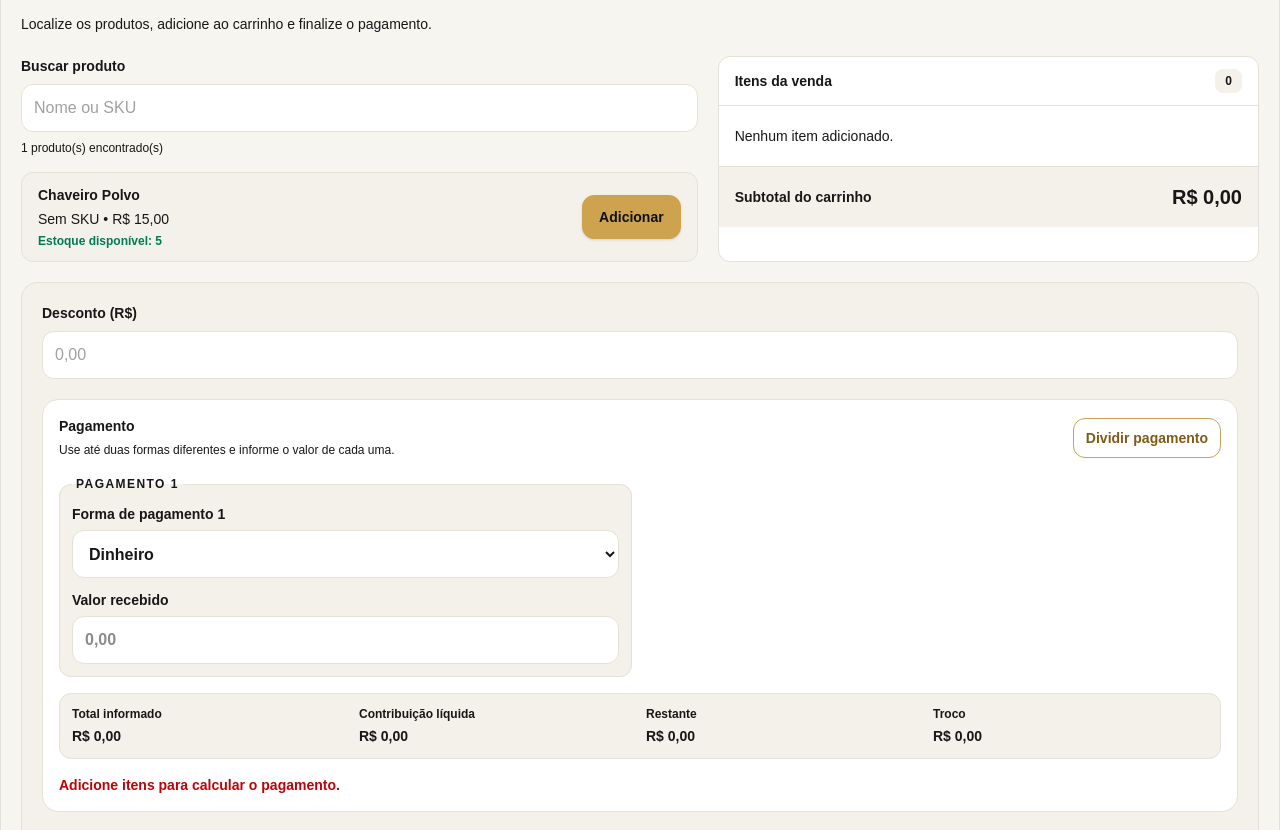
PdvCart › calculates cash change when received amount covers the total
Click the button "Adicionar" at point(631, 217), box [582, 195, 681, 239]
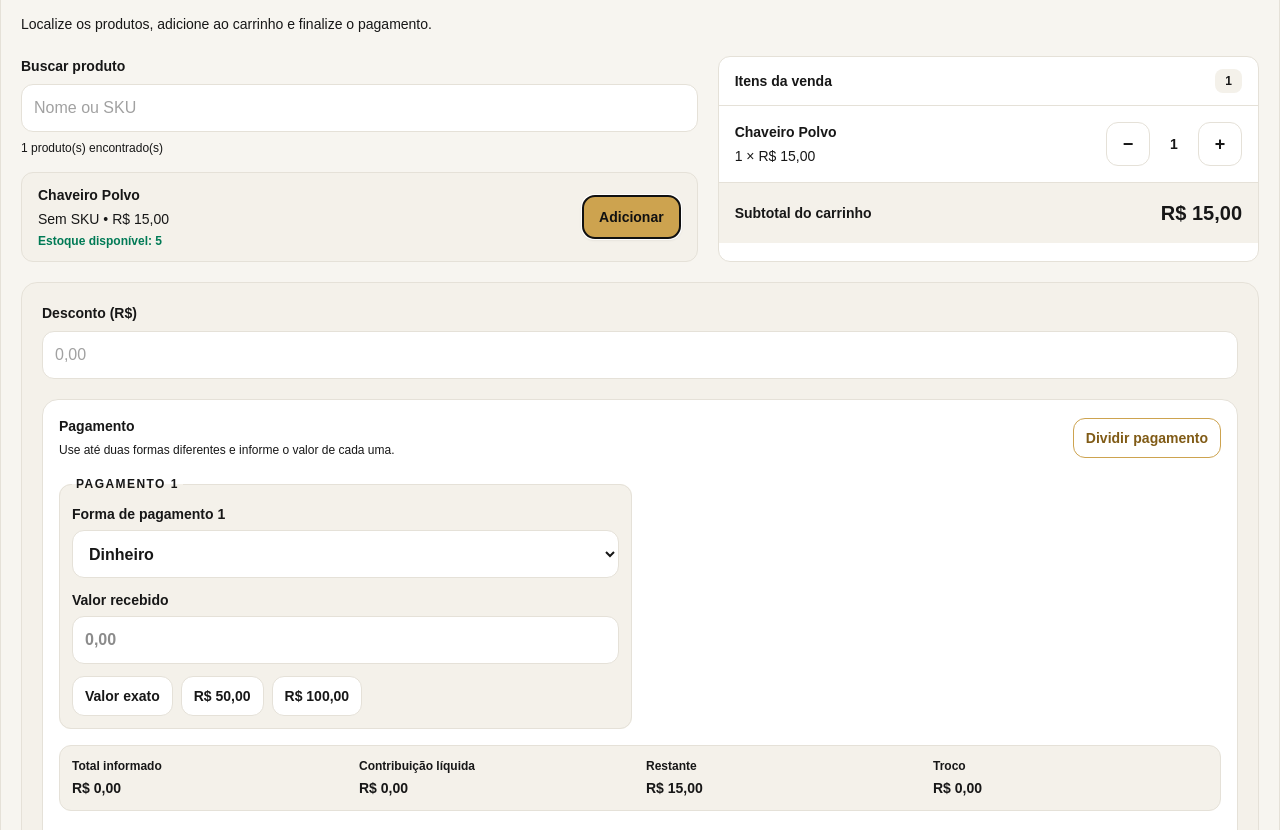
Type "20,00" into the field labelled "Valor recebido" at point(346, 640), box [72, 616, 619, 664]
(page scrolled)
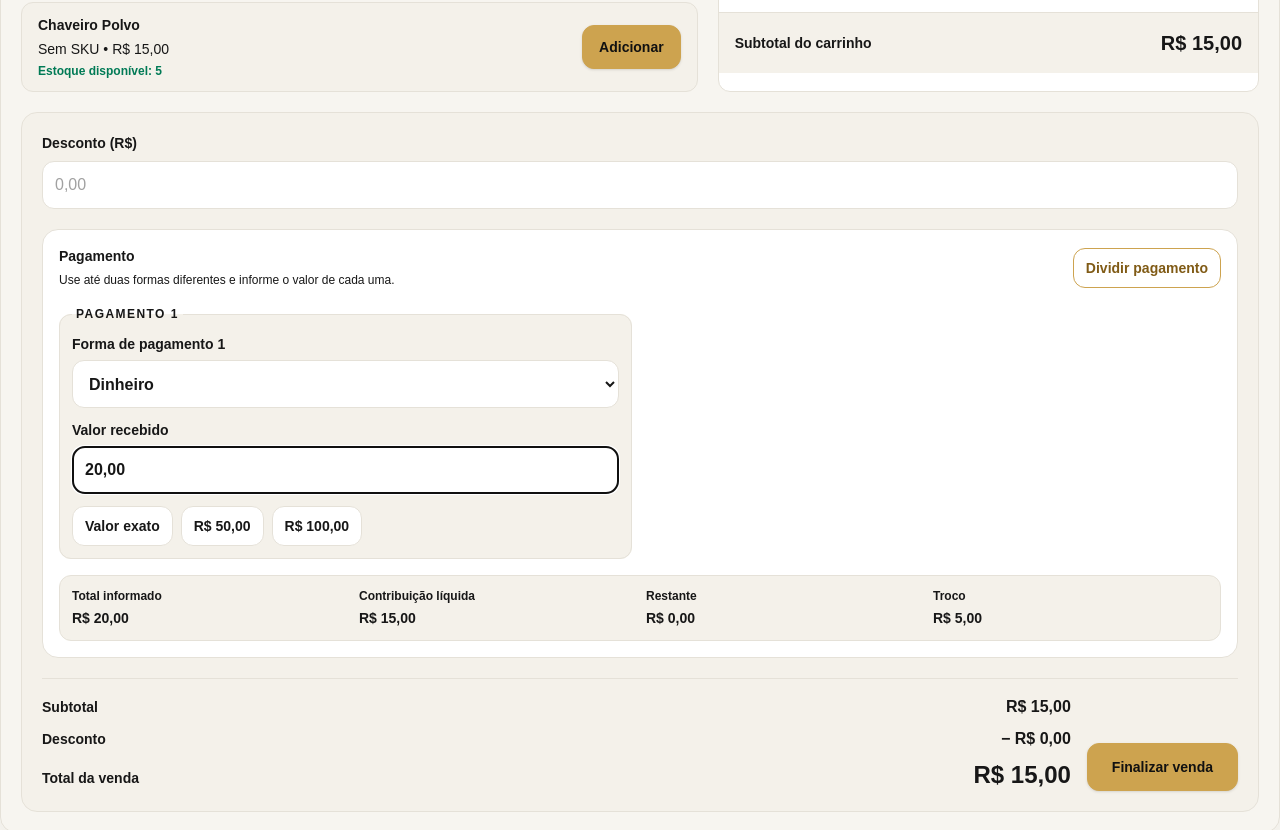
Check: the button "Finalizar venda" is enabled, box [1087, 743, 1238, 791]
